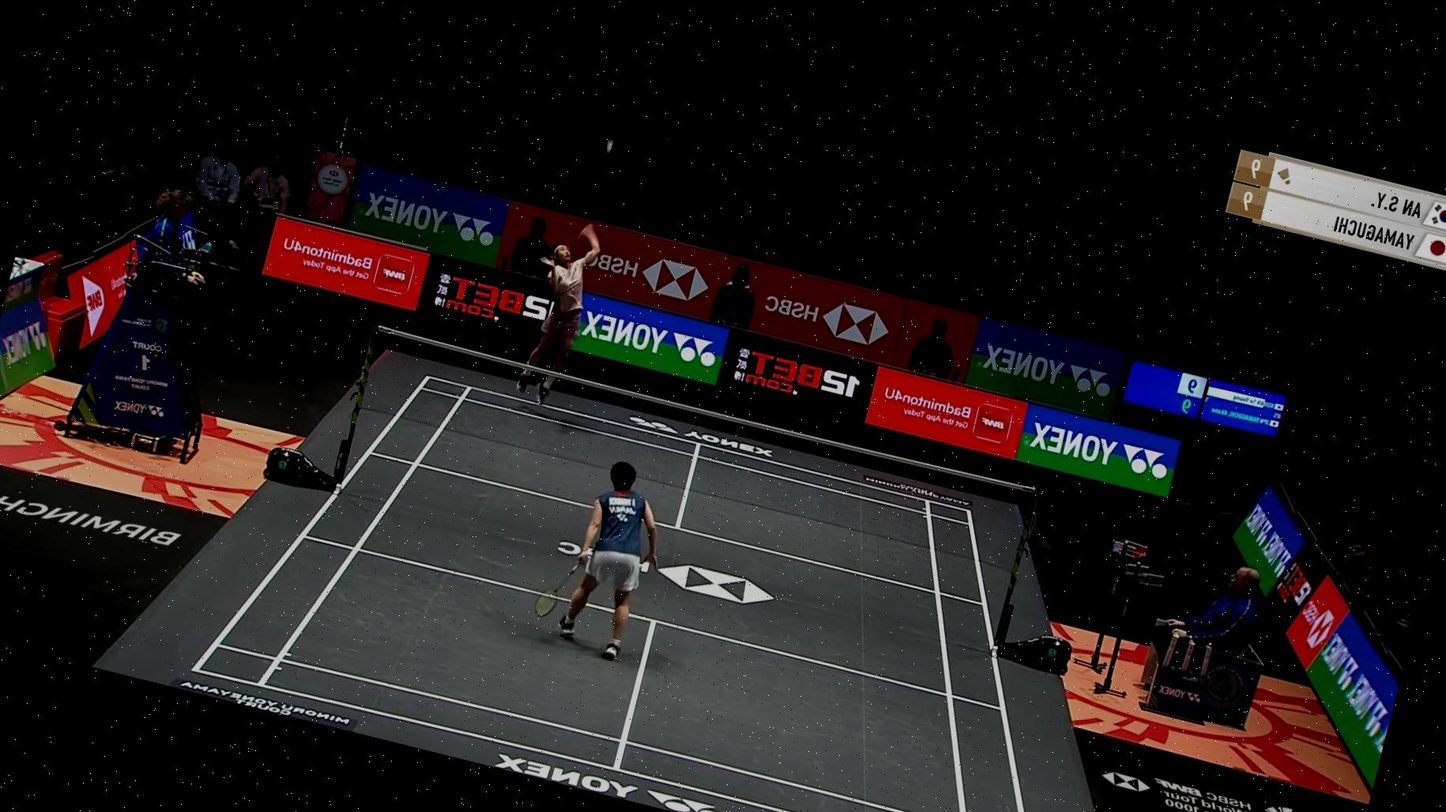Player 1: (499, 206, 622, 414)
Player 2: (538, 445, 680, 669)
shuttle: (598, 132, 624, 159)
